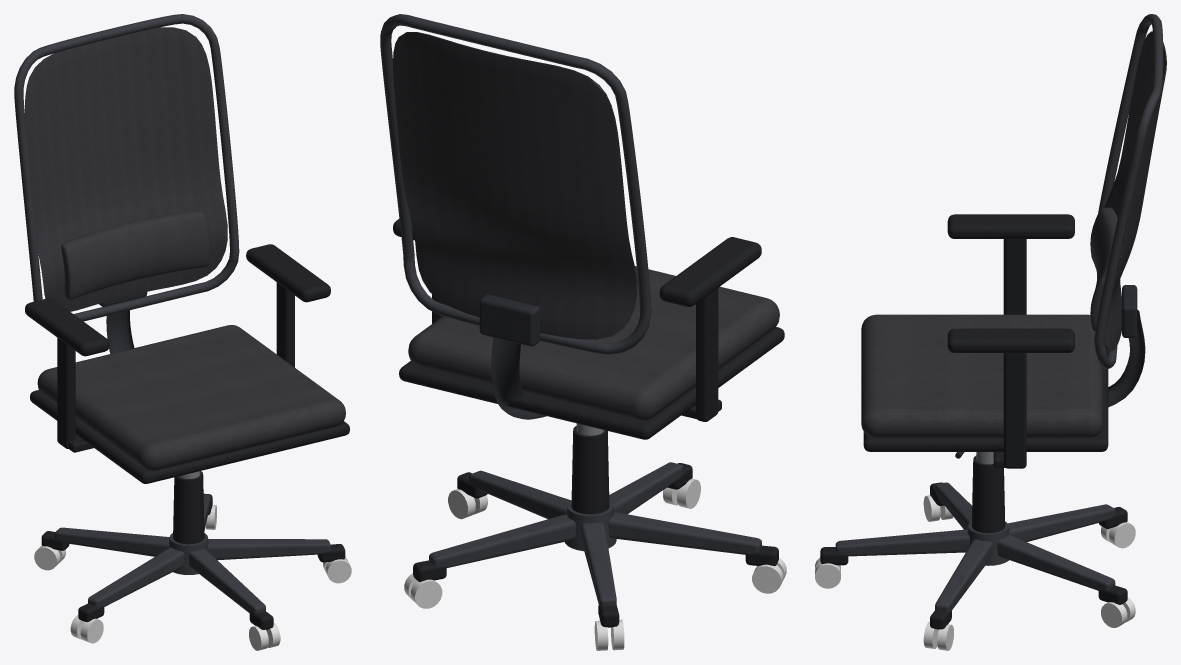
The model's file is office_chair.glb.
3 renders of one model, left to right at view 1: azimuth 30°, elevation 25°; view 2: azimuth 150°, elevation 25°; view 3: azimuth 270°, elevation 25°, orthographic. The views are drawn at different scales.
Visible parts, largest first — view 1: part_back_LOD0, part_seat_LOD0, part_base_LOD0, part_lumbar_LOD0, part_arm_r_LOD0, part_arm_l_LOD0, part_column_LOD0; view 2: part_back_LOD0, part_seat_LOD0, part_base_LOD0, part_arm_r_LOD0, part_column_LOD0; view 3: part_seat_LOD0, part_base_LOD0, part_back_LOD0, part_arm_l_LOD0, part_arm_r_LOD0, part_column_LOD0, part_lumbar_LOD0.
Boxes of the visible parts, x1,y1,x2,y2 form: part_back_LOD0: (14, 14, 239, 353); part_seat_LOD0: (30, 325, 349, 483); part_base_LOD0: (34, 493, 351, 650); part_lumbar_LOD0: (61, 210, 209, 299); part_arm_r_LOD0: (25, 298, 109, 452); part_arm_l_LOD0: (246, 244, 330, 367); part_column_LOD0: (173, 471, 204, 544); part_back_LOD0: (380, 14, 651, 419); part_seat_LOD0: (399, 266, 784, 439); part_base_LOD0: (404, 462, 786, 650); part_arm_r_LOD0: (659, 237, 761, 421); part_column_LOD0: (571, 423, 609, 514); part_seat_LOD0: (861, 314, 1108, 451); part_base_LOD0: (815, 482, 1135, 650); part_back_LOD0: (1094, 14, 1166, 407); part_arm_l_LOD0: (947, 328, 1074, 468); part_arm_r_LOD0: (947, 214, 1074, 314); part_column_LOD0: (955, 452, 1005, 533); part_lumbar_LOD0: (1090, 207, 1123, 330).
Size of what is drawn, in the model's own units: 0.6621 by 1.15 by 0.691.
Materials: 6 (6 with a texture image).
